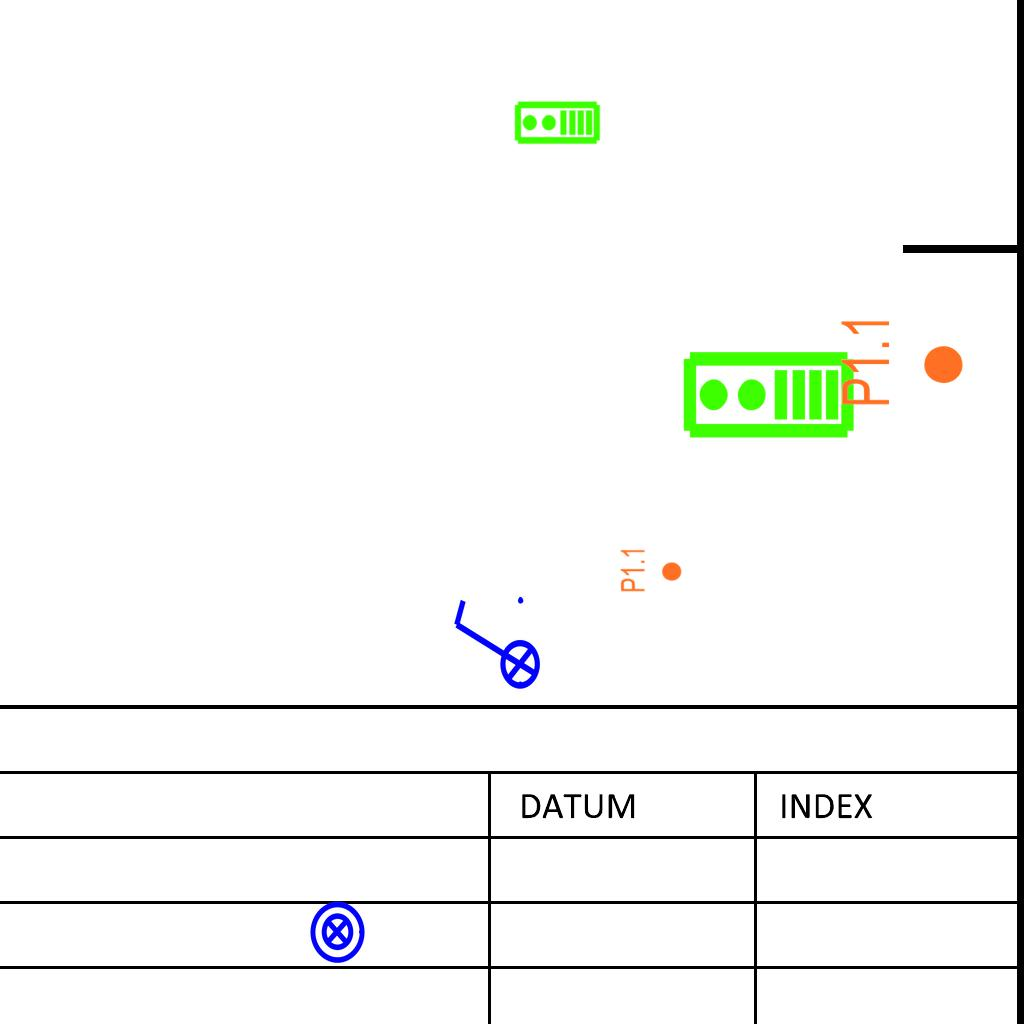Ausschalter_beleuchtet: (446, 591, 542, 703)
Downlight_LED_Einbauleuchten_Flur_2: (838, 315, 966, 408), (619, 547, 683, 593)
Gegensprechanlage_mit_Video: (680, 349, 856, 444), (513, 100, 601, 147)
Taster_beleuchtet: (304, 899, 370, 965)
